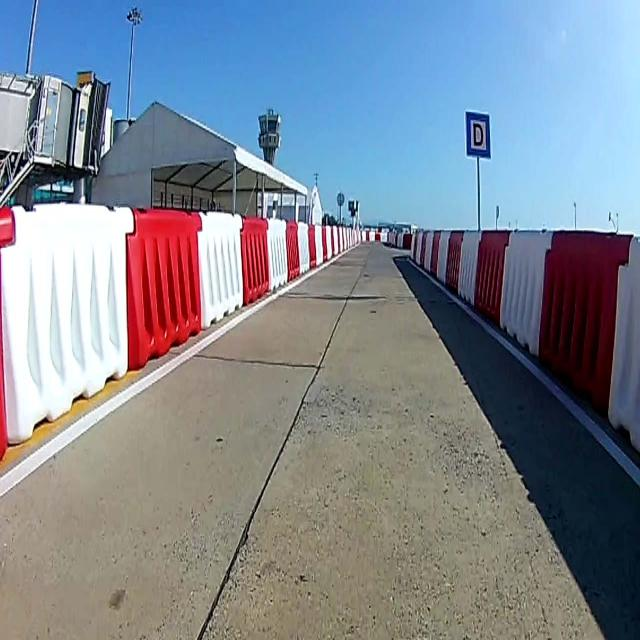durak: (466, 109, 489, 159)
